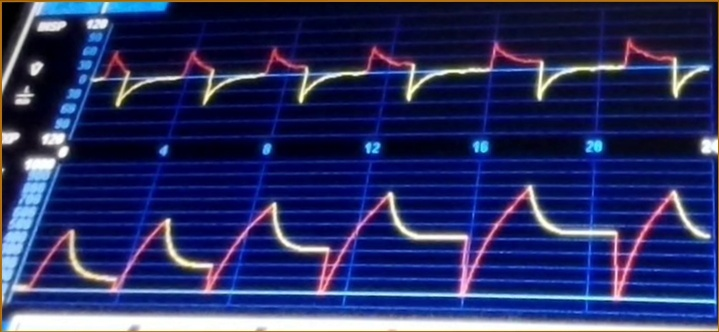Flow: (102, 31, 712, 127)
Leakage Volume: (47, 172, 710, 310)
